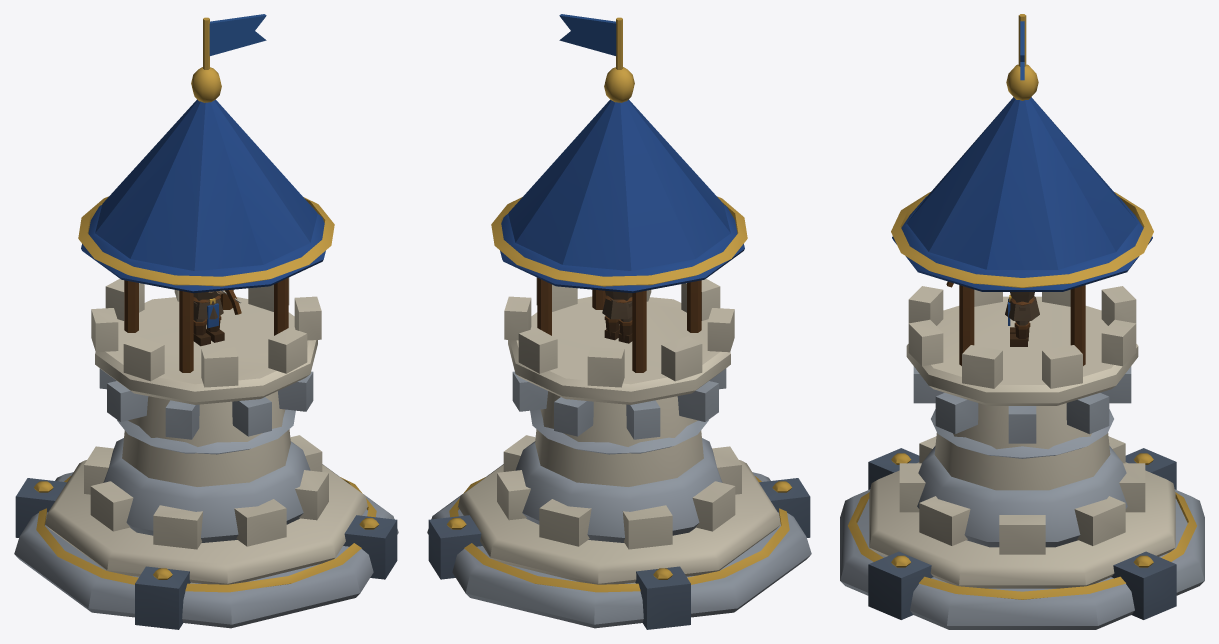
Rendered from alliance_0.glb.
The picture shows the model from 3 angles, left to right: view 1: azimuth 30°, elevation 25°; view 2: azimuth 150°, elevation 25°; view 3: azimuth 270°, elevation 25°; orthographic projection.
Parts seen in each view (by area): view 1: alliance_0_peint, Buste_peint; view 2: alliance_0_peint, Buste_peint; view 3: alliance_0_peint, Buste_peint.
Boxes of the visible parts, x1,y1,x2,y2 form: alliance_0_peint: [14, 14, 398, 629]; Buste_peint: [193, 291, 223, 328]; alliance_0_peint: [427, 14, 811, 629]; Buste_peint: [602, 290, 632, 319]; alliance_0_peint: [840, 14, 1204, 629]; Buste_peint: [1005, 292, 1039, 325].
Size of the model in its own units: 0.7869 by 1.28 by 0.7869.
